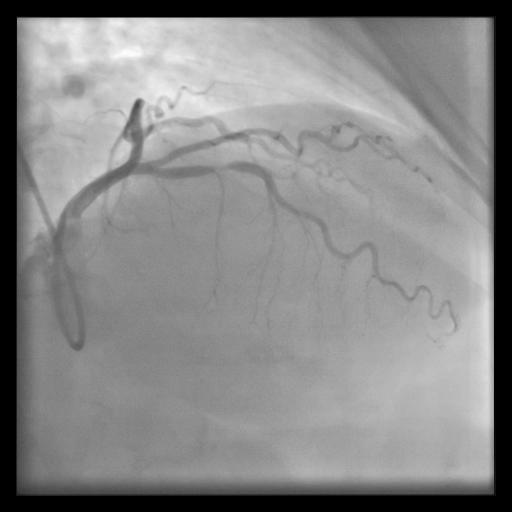Stenosis: (209, 159, 232, 174)
